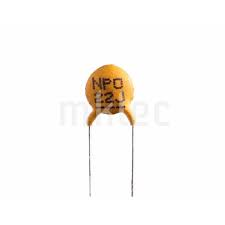ceramic capacitor: (52, 49, 161, 150)
